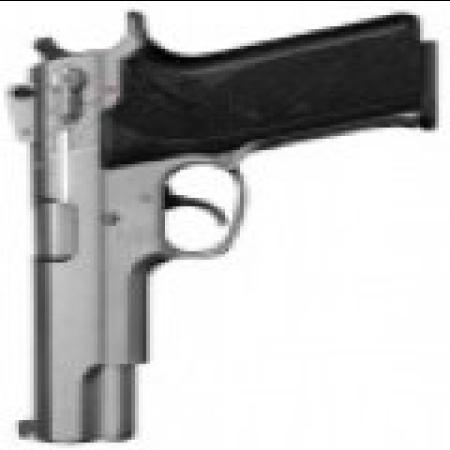Pistol: (3, 8, 432, 438)
